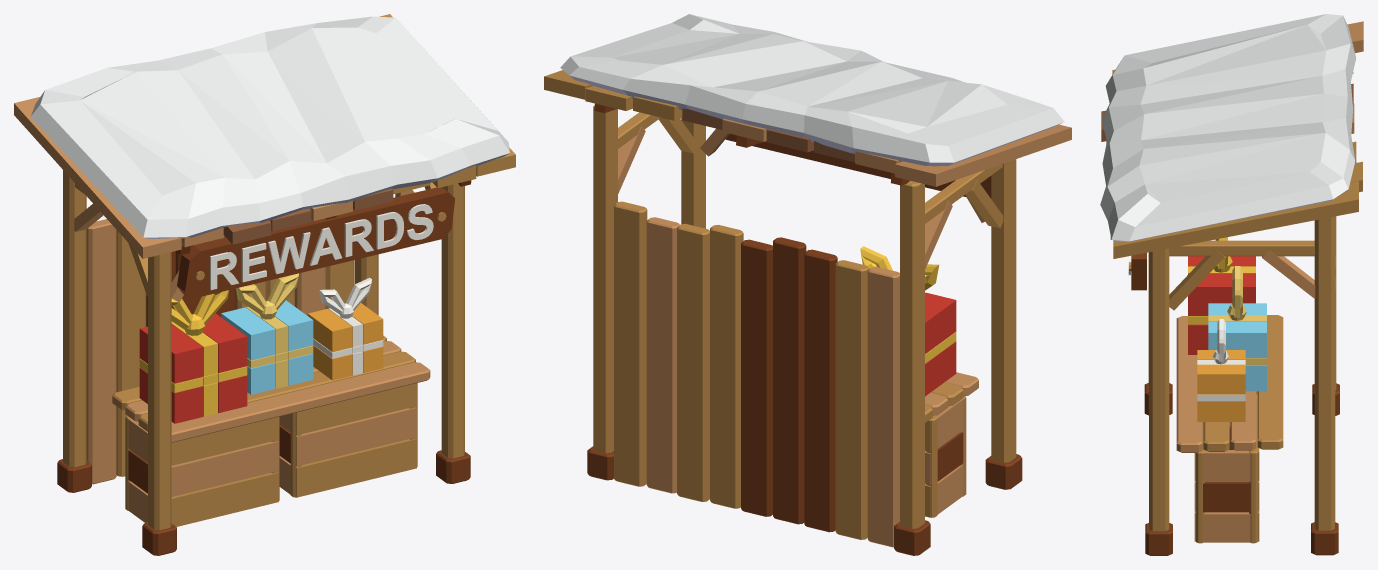
The model's file is Rewards.glb.
3 renders of one model, left to right at view 1: azimuth 30°, elevation 25°; view 2: azimuth 150°, elevation 25°; view 3: azimuth 270°, elevation 25°, orthographic. The views are drawn at different scales.
Visible parts, largest first — view 1: Rewards; view 2: Rewards; view 3: Rewards.
Boxes of the visible parts, box(x1,y1,x2,y2) form: Rewards: box(14, 14, 515, 555); Rewards: box(544, 14, 1071, 555); Rewards: box(1100, 14, 1363, 555).
Size of the model in its own units: 2.63 by 2.69 by 1.64.
1 material, 1 textured.
